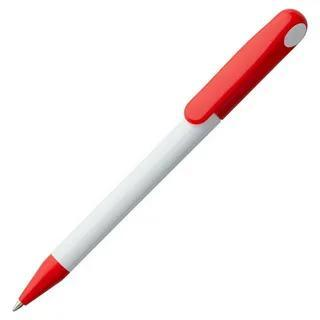pen-pencil: (13, 9, 306, 309)
